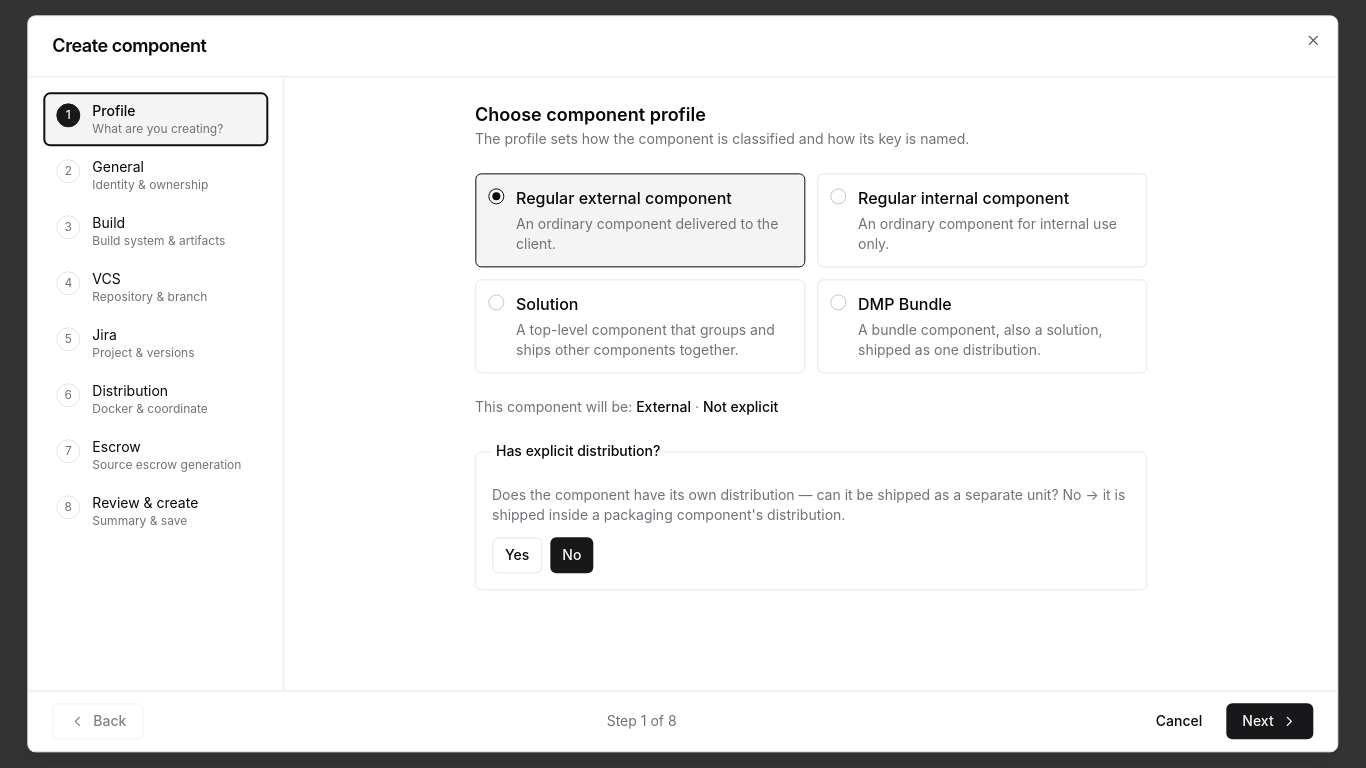
CreateComponentPage — wizard UI polish › renders the ownership matching mode as a select with per-mode help
The width and height of the screenshot is (1366, 768).
Click the radio button labelled "Regular internal component" at (982, 220), box [817, 173, 1147, 267]
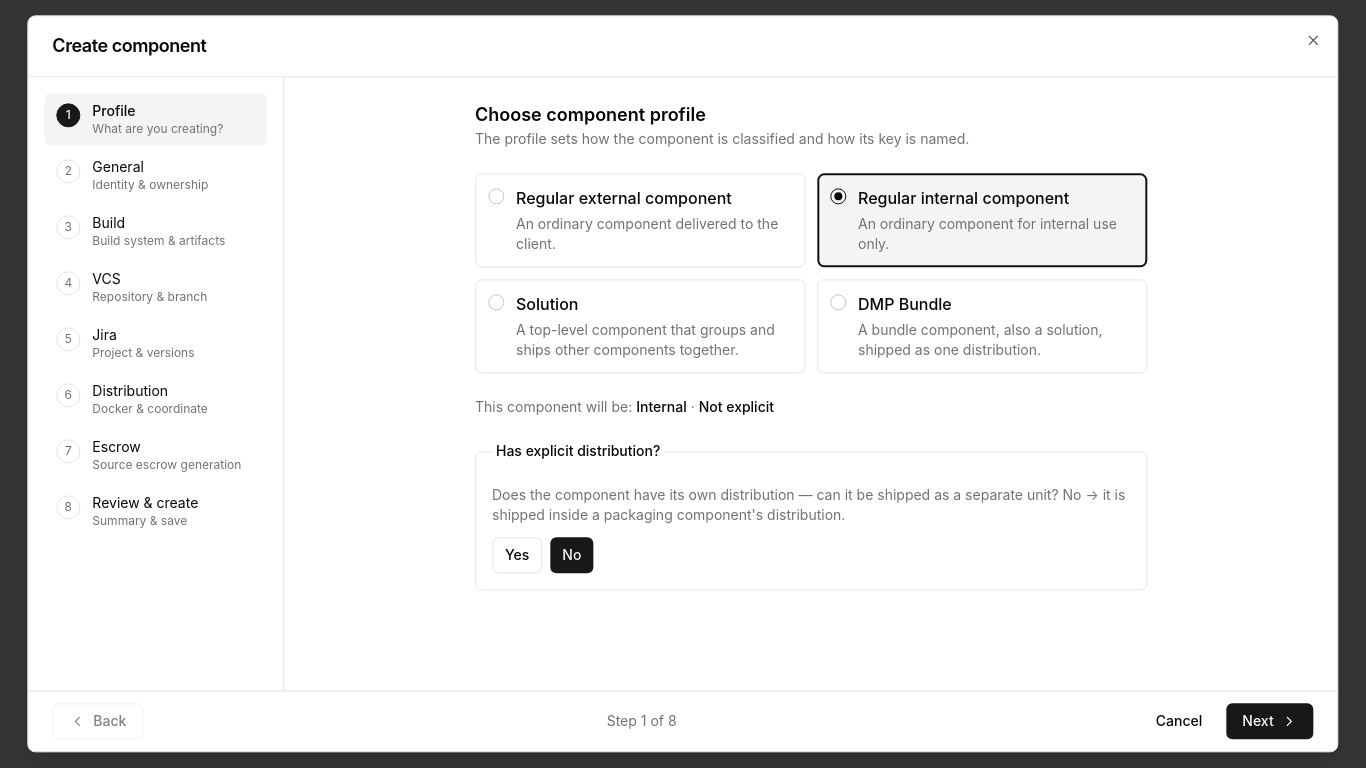
Click the button "Next" at (1270, 722), box [1226, 704, 1314, 740]
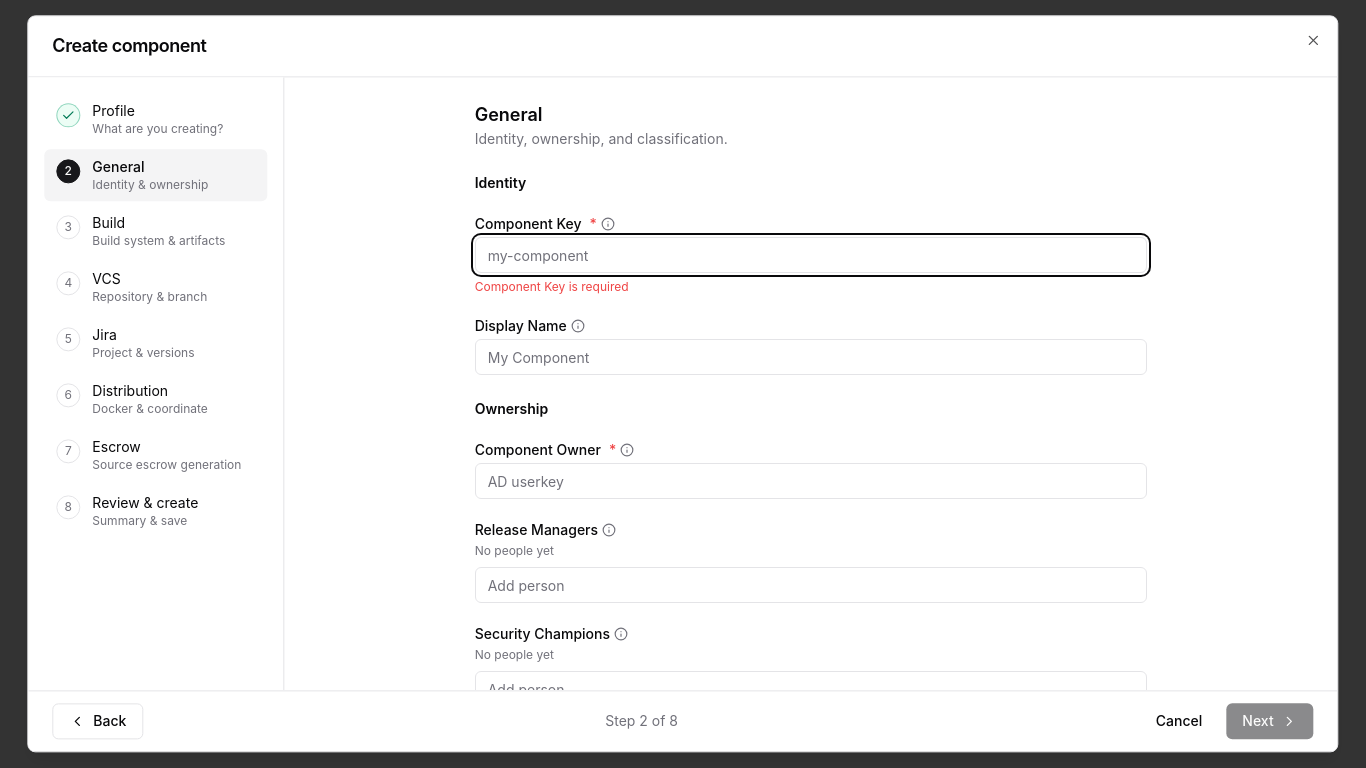
Type "widget" into the field with placeholder "my-component" at (811, 255), box [475, 237, 1147, 273]
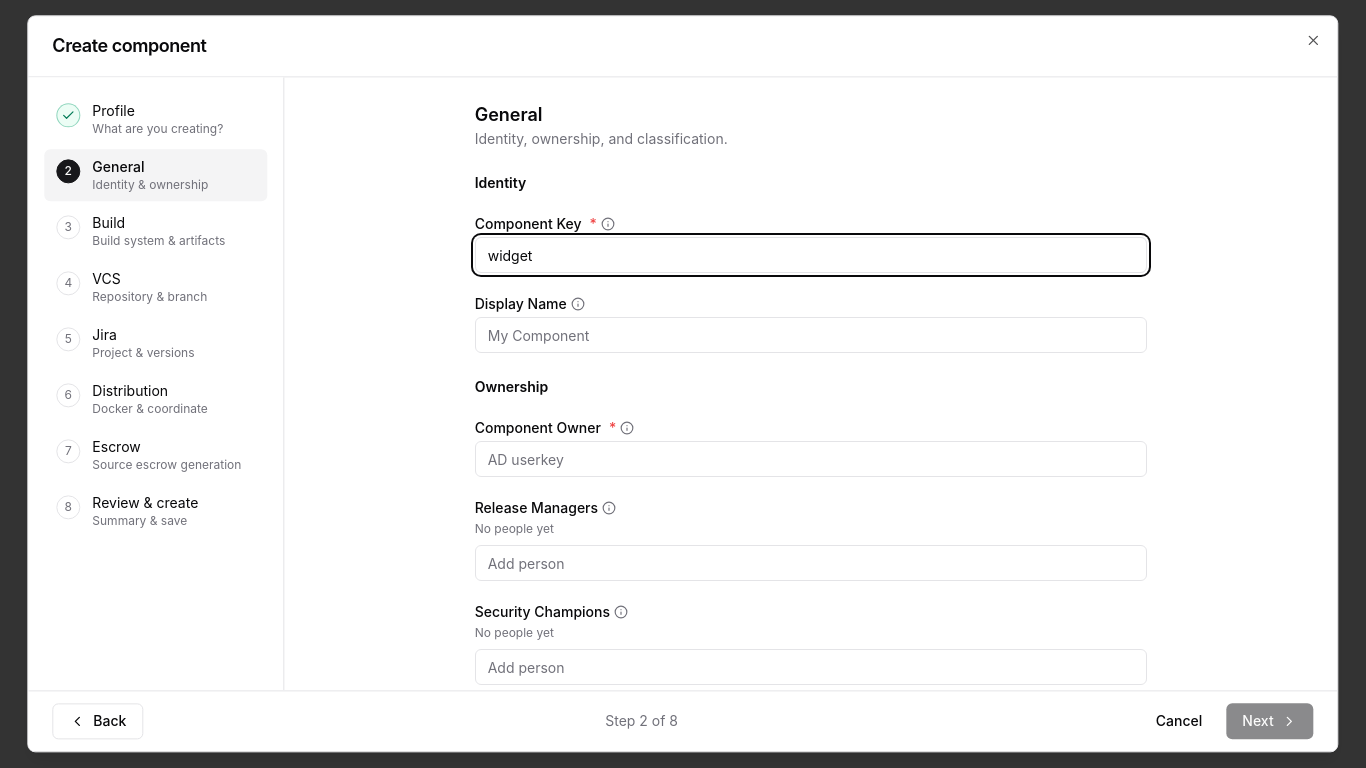
Type "alice" into the field with placeholder "AD userkey" at (811, 459), box [475, 441, 1147, 477]
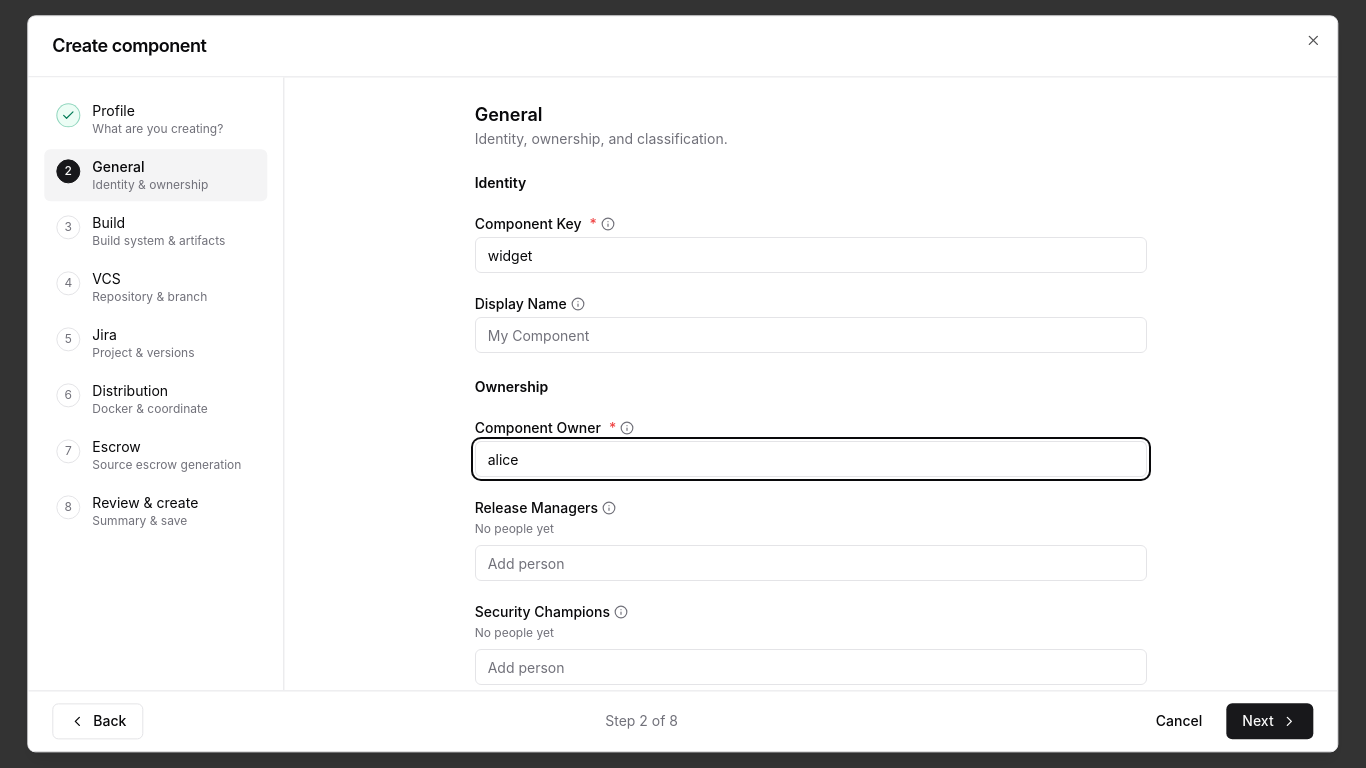
Click the button "Next" at (1270, 722), box [1226, 704, 1314, 740]
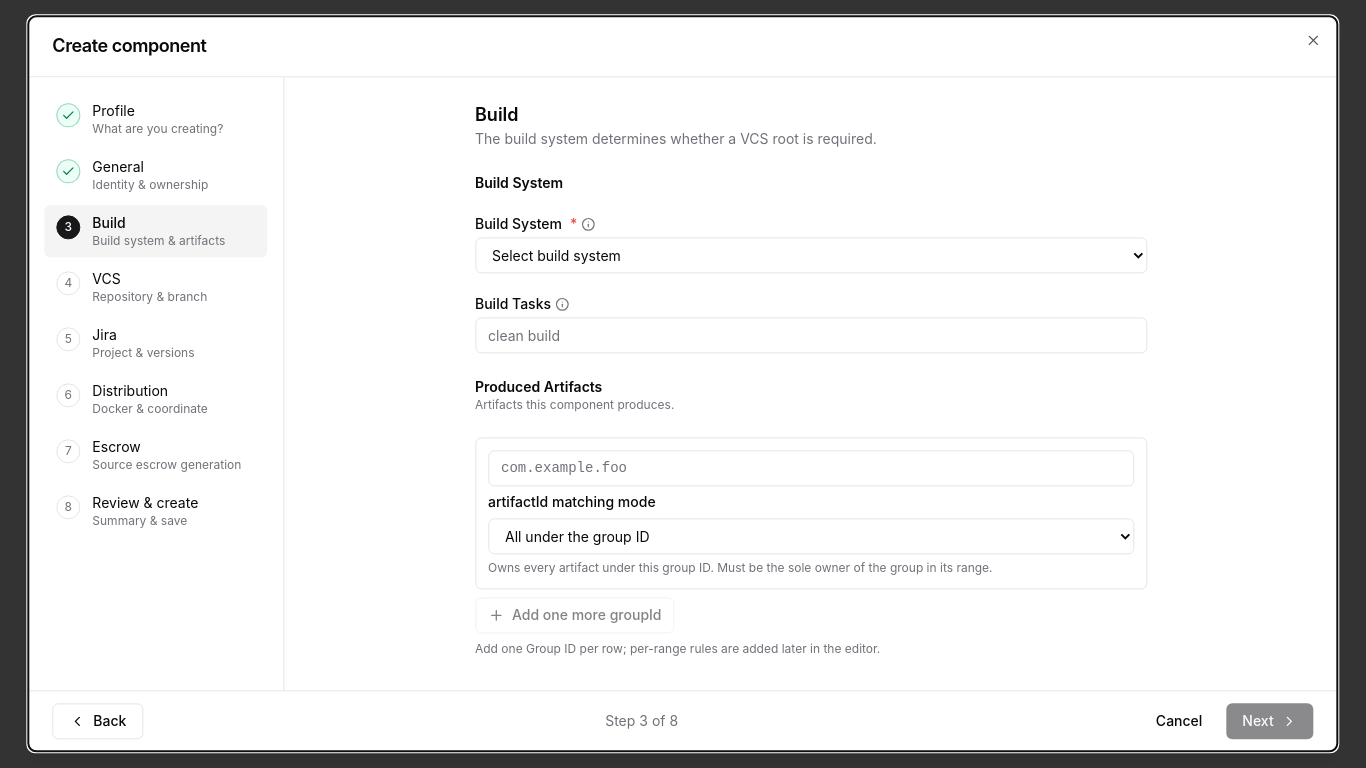
Expected: the dropdown labelled "artifactId matching mode" shows "All under the group ID"
Select "Specific artifacts only" in the dropdown labelled "artifactId matching mode" at (811, 536), box [488, 518, 1134, 554]
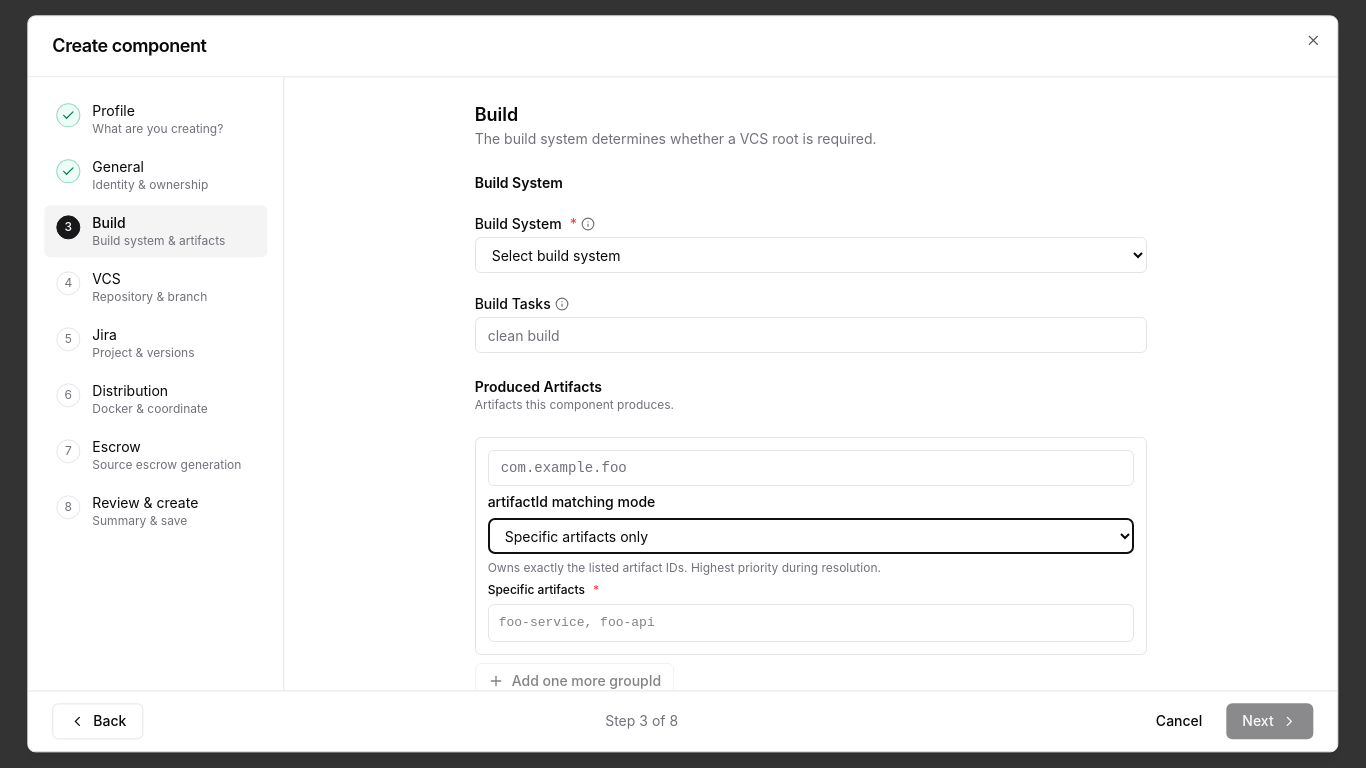
Expected: the field named "Specific artifacts" is shown, [497, 612, 1125, 635]
